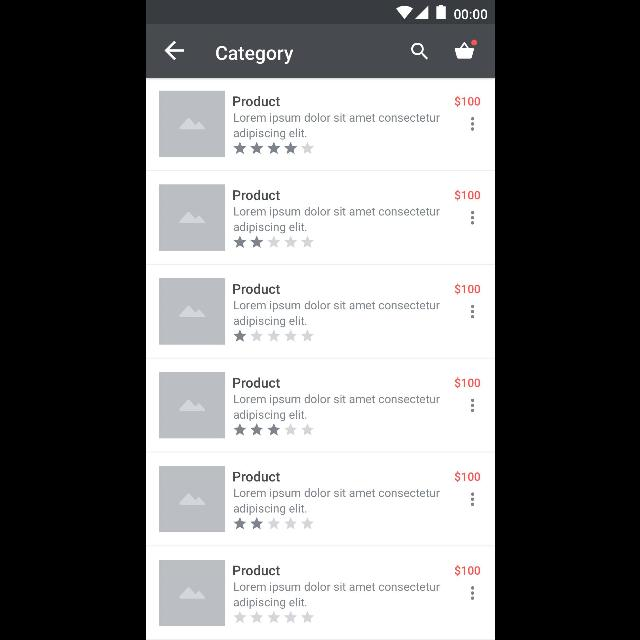icon: (232, 330, 314, 342), (232, 611, 314, 623), (233, 142, 313, 154), (233, 236, 313, 248), (233, 424, 313, 436), (234, 518, 312, 530), (454, 39, 478, 59), (163, 41, 183, 61), (410, 42, 428, 59), (470, 211, 474, 225), (470, 305, 474, 319), (470, 398, 474, 412), (470, 492, 474, 506), (470, 586, 474, 600), (470, 118, 474, 130)
image: (158, 91, 224, 157), (159, 185, 225, 251), (158, 278, 224, 344), (159, 372, 225, 438), (159, 466, 225, 532), (159, 560, 225, 626)
text: (232, 488, 440, 516), (233, 206, 439, 234), (233, 394, 439, 422), (233, 582, 439, 608), (233, 114, 439, 140), (233, 301, 439, 327), (215, 46, 292, 64), (231, 565, 281, 577), (232, 95, 280, 106), (232, 190, 280, 200), (232, 284, 280, 294), (232, 378, 280, 388), (232, 472, 280, 482), (454, 96, 480, 108), (454, 190, 480, 202), (454, 284, 480, 294), (454, 378, 480, 388), (454, 472, 480, 482), (454, 566, 480, 576)
uppertaskbar: (146, 1, 494, 23)
